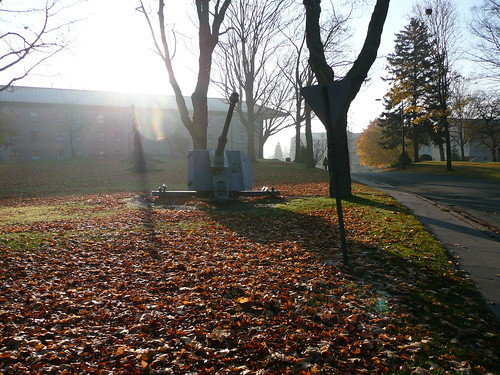building: (1, 88, 259, 166)
grass: (1, 171, 381, 375)
tree: (226, 1, 318, 171), (377, 14, 468, 169)
weapon: (147, 86, 301, 216)
